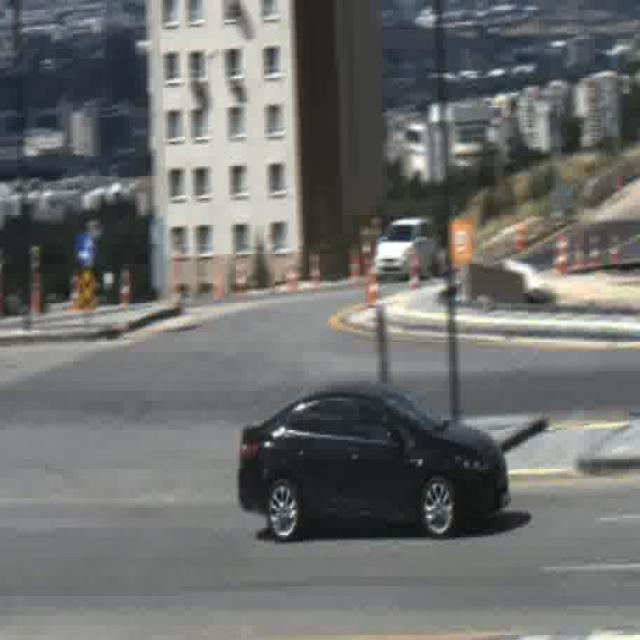Car: (238, 386, 511, 540), (372, 217, 436, 280)
